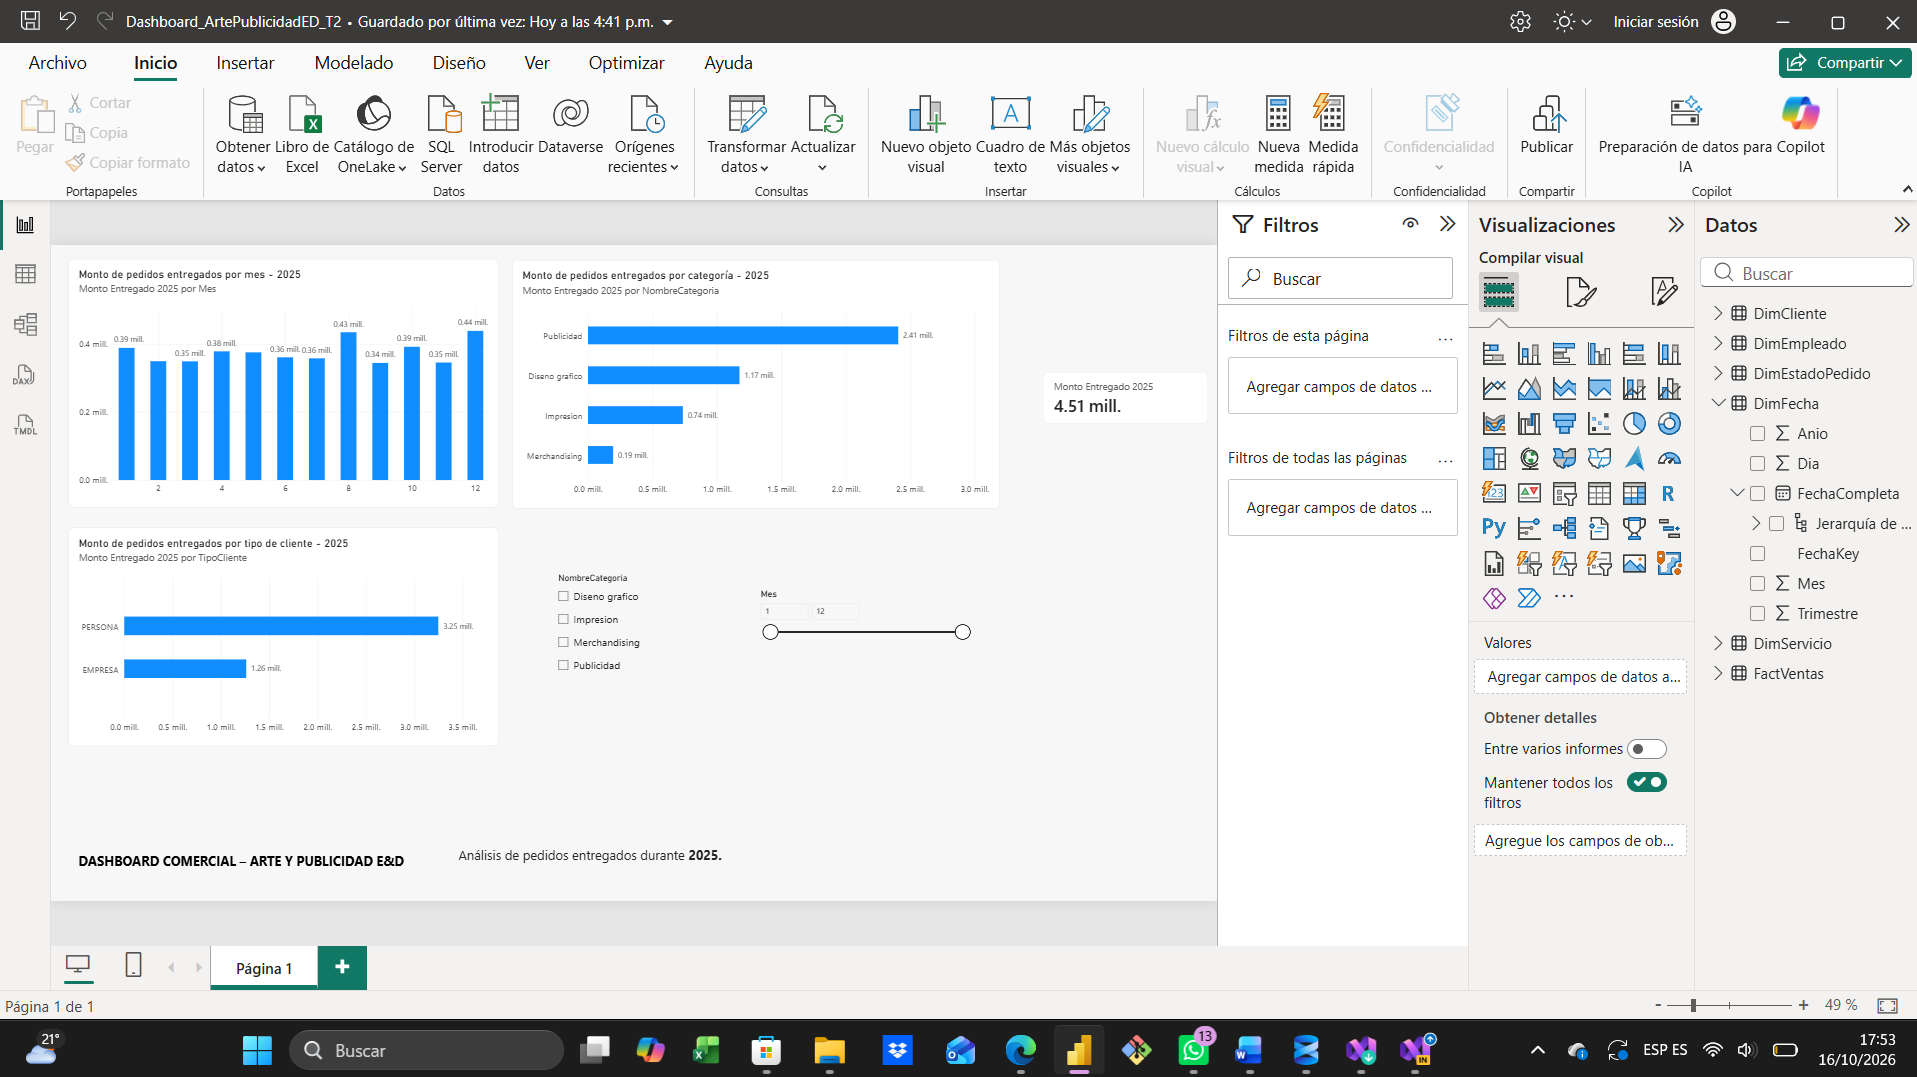

Layout of this report page (visuals, bound fields, positions):
{"tool":"powerbi","page":{"name":"Página 1","canvas":[1920,1080],"ordinal":0},"visuals":[{"type":"cardVisual","fields":{"Data":["FactVentas.Monto Entregado 2025"]},"box":[1634.3,209.9,271.7,84.4],"z":0},{"type":"clusteredColumnChart","title":"Monto de pedidos entregados por mes - 2025","fields":{"Category":["DimFecha.Mes"],"Y":["FactVentas.Monto Entregado 2025"]},"box":[28.8,22.6,708.1,409.6],"z":1000},{"type":"clusteredBarChart","title":"Monto de pedidos entregados por categoría - 2025","fields":{"Category":["DimServicio.NombreCategoria"],"Y":["FactVentas.Monto Entregado 2025"]},"box":[759.5,24.7,802.7,409.6],"z":2000},{"type":"clusteredBarChart","title":"Monto de pedidos entregados por tipo de cliente - 2025","fields":{"Category":["DimCliente.TipoCliente"],"Y":["FactVentas.Monto Entregado 2025"]},"box":[28.8,465.2,708.1,360.2],"z":3000},{"type":"slicer","fields":{"Values":["DimServicio.NombreCategoria"]},"box":[827.4,539.3,209.9,203.8],"z":4000},{"type":"slicer","fields":{"Values":["DimFecha.Mes"]},"box":[1160.9,566,356.1,150.3],"z":5000},{"type":"textbox","box":[0,1018.9,117.3,61.7],"z":6000},{"type":"textbox","box":[45.3,926.2,615.4,121.4],"z":7000},{"type":"textbox","box":[670,897.5,615,150],"z":8000}]}

Visuals, with their boxes on the page's 1920x1080 design canvas (x1, y1, x2, y2). These are canvas units, not pixel positions in the 1917x1077 screenshot, which may show the page scaled, cropped or inside an application window:
cardVisual - FactVentas.Monto Entregado 2025: box(1634, 210, 1906, 294)
"Monto de pedidos entregados por mes - 2025" clusteredColumnChart: box(29, 23, 737, 432)
"Monto de pedidos entregados por categoría - 2025" clusteredBarChart: box(760, 25, 1562, 434)
"Monto de pedidos entregados por tipo de cliente - 2025" clusteredBarChart: box(29, 465, 737, 825)
slicer - DimServicio.NombreCategoria: box(827, 539, 1037, 743)
slicer - DimFecha.Mes: box(1161, 566, 1517, 716)
textbox: box(0, 1019, 117, 1081)
textbox: box(45, 926, 661, 1048)
textbox: box(670, 898, 1285, 1048)
